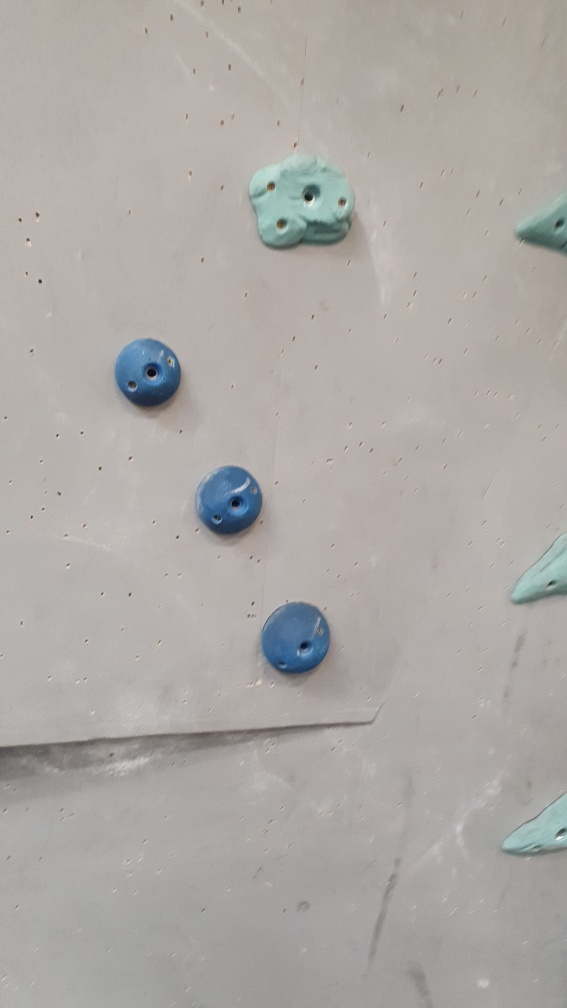Crimp: (492, 790, 567, 864), (502, 180, 567, 264), (502, 533, 567, 616)
Sloper: (250, 589, 337, 684), (189, 461, 268, 543), (114, 335, 184, 412)
